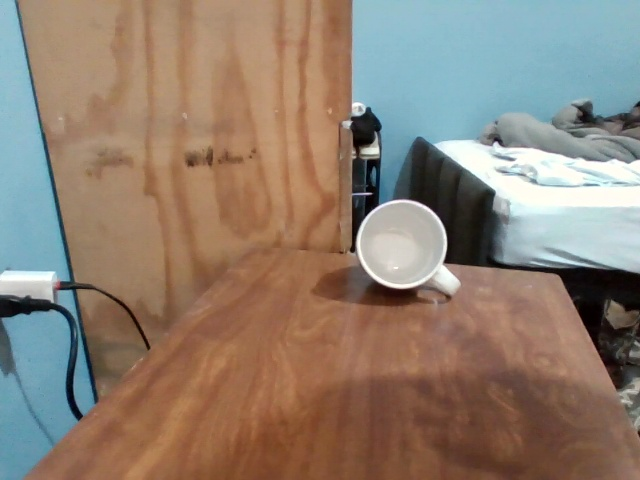taza: (356, 197, 449, 288)
